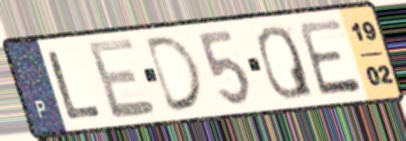5: (194, 26, 255, 107)
D: (143, 33, 207, 116)
E: (84, 35, 160, 123), (294, 16, 366, 99)
L: (45, 48, 105, 122)
Q: (255, 23, 317, 102)
